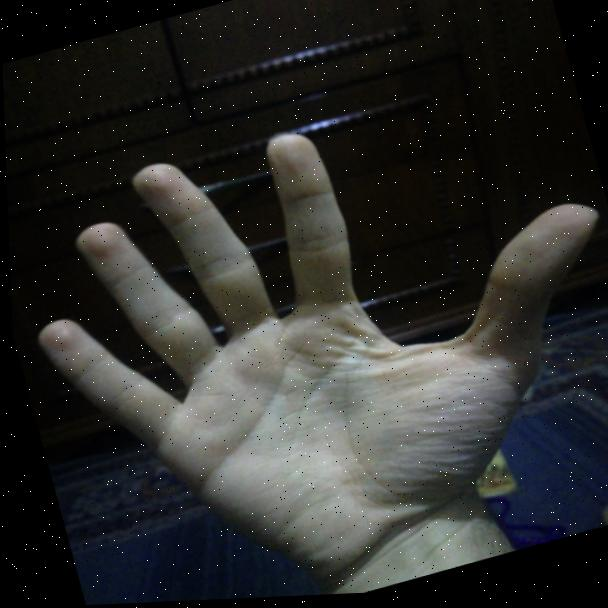five: (2, 40, 608, 608)
